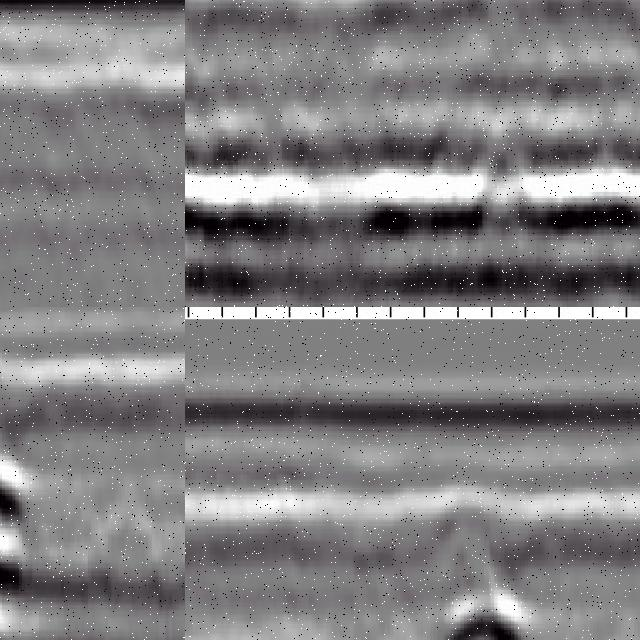crack: (1, 398, 40, 640), (443, 532, 522, 640)
